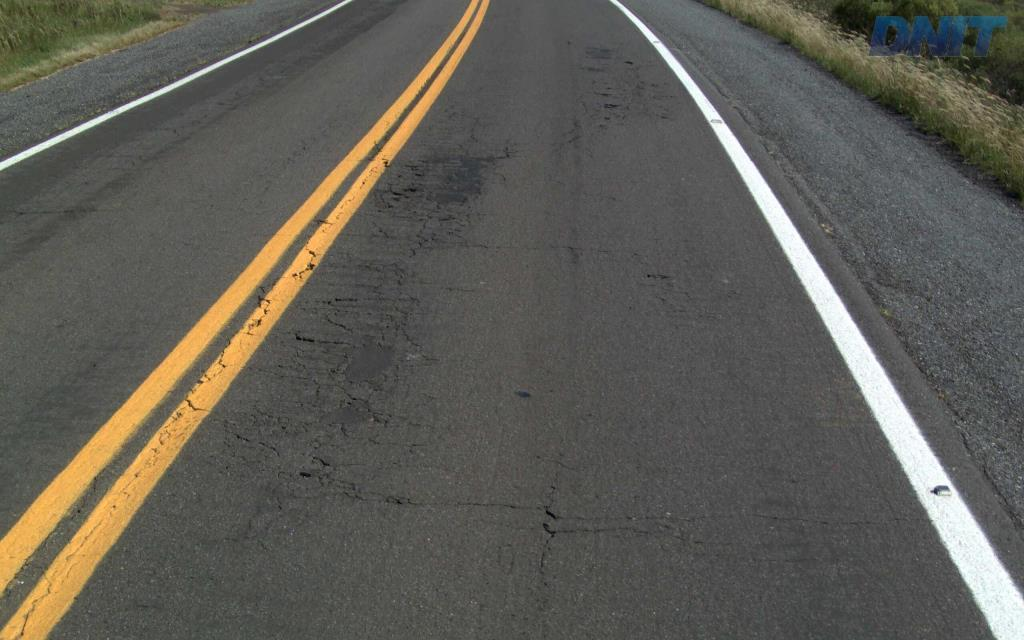crack: (425, 154, 495, 213), (339, 387, 383, 423), (373, 182, 428, 208)
